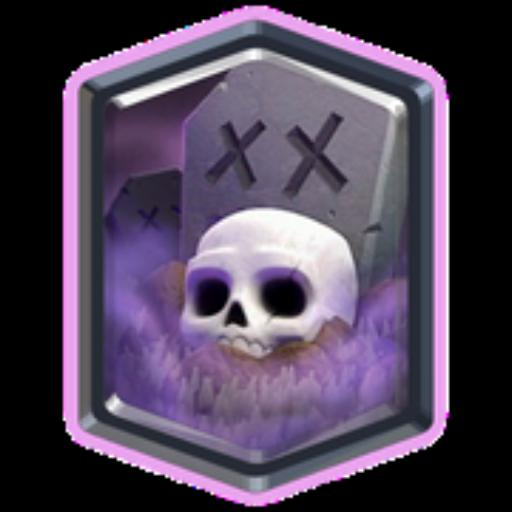graveyard: (100, 66, 406, 460)
